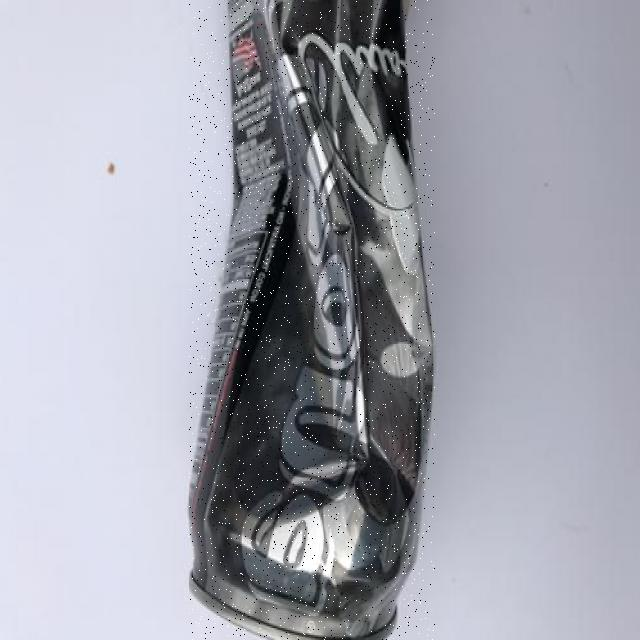metal: (190, 0, 435, 640)
